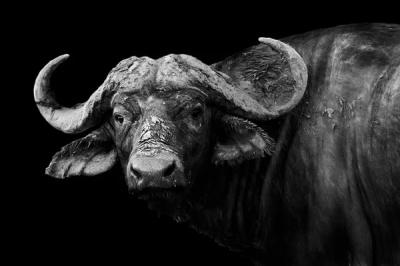buffalo: (33, 23, 399, 265)
